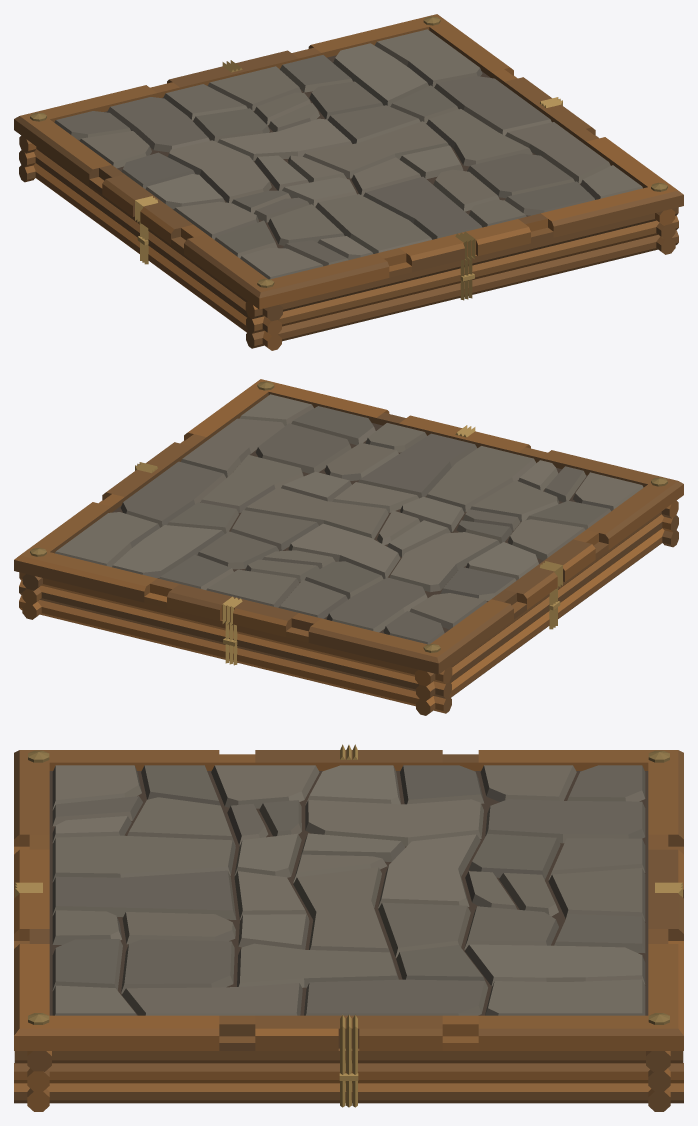
The model's file is interlocking-bay-foundation-53ffe9.glb.
The picture shows the model from 3 angles, top to bottom: view 1: azimuth 30°, elevation 25°; view 2: azimuth 150°, elevation 25°; view 3: azimuth 270°, elevation 25°; orthographic projection. The views are drawn at different scales.
Visible parts, largest first — view 1: foundation; view 2: foundation; view 3: foundation.
Boxes of the visible parts, x1,y1,x2,y2 form: foundation: (14,14,683,350); foundation: (14,379,683,715); foundation: (14,744,683,1111).
Size of the model in its own units: 3 by 0.43 by 3.
